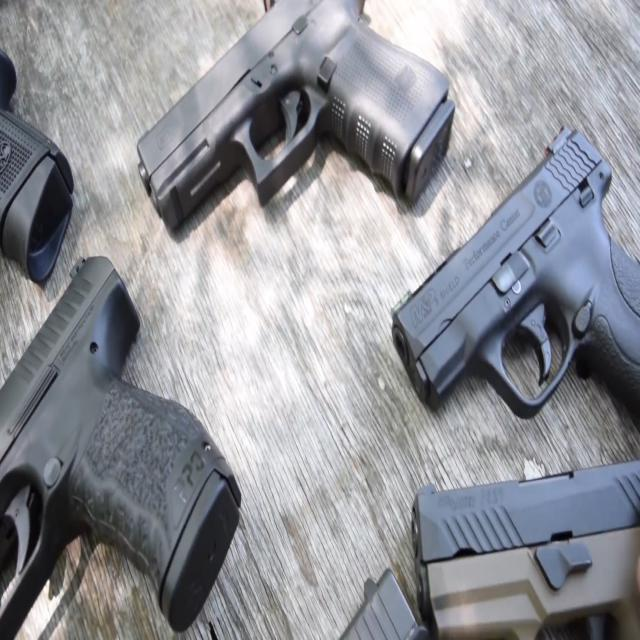handgun: (361, 130, 639, 413), (124, 0, 474, 215), (0, 288, 238, 602), (400, 453, 640, 638)
